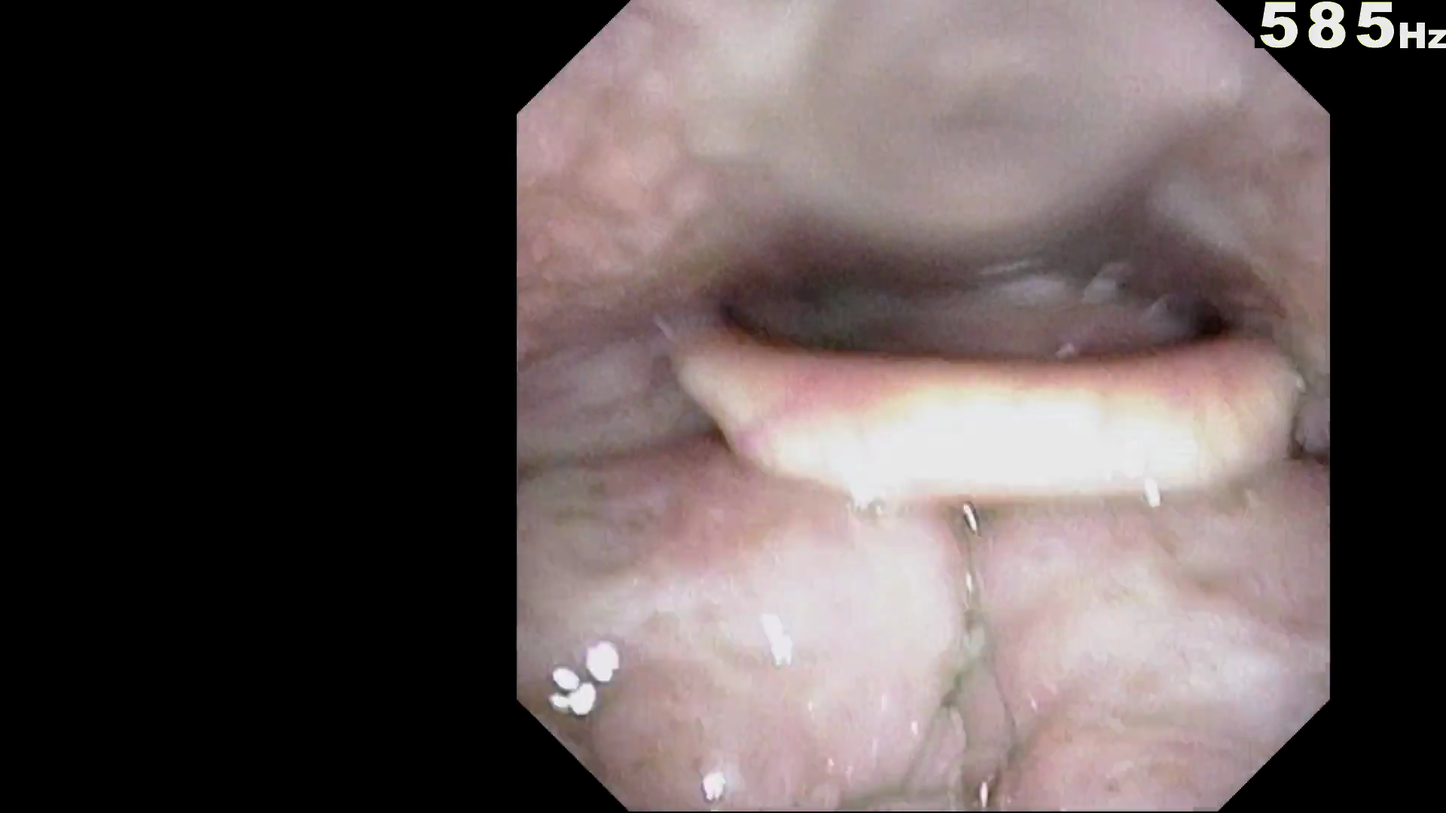epiglottis: (655, 356, 1324, 658)
